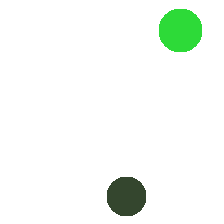circle: (159, 9, 201, 51), (107, 177, 145, 215)
